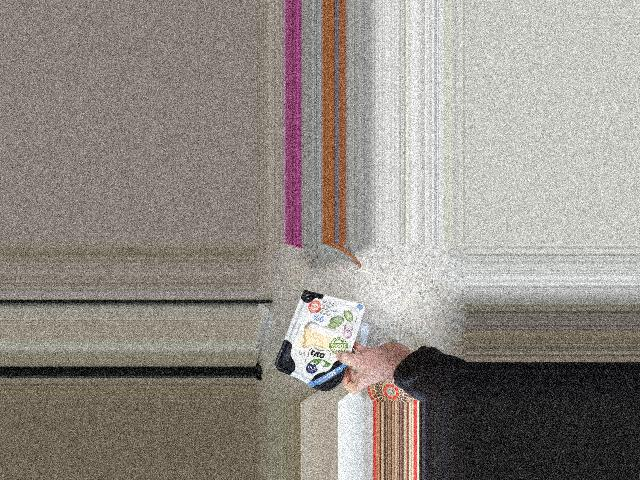cheese: (288, 291, 356, 387)
